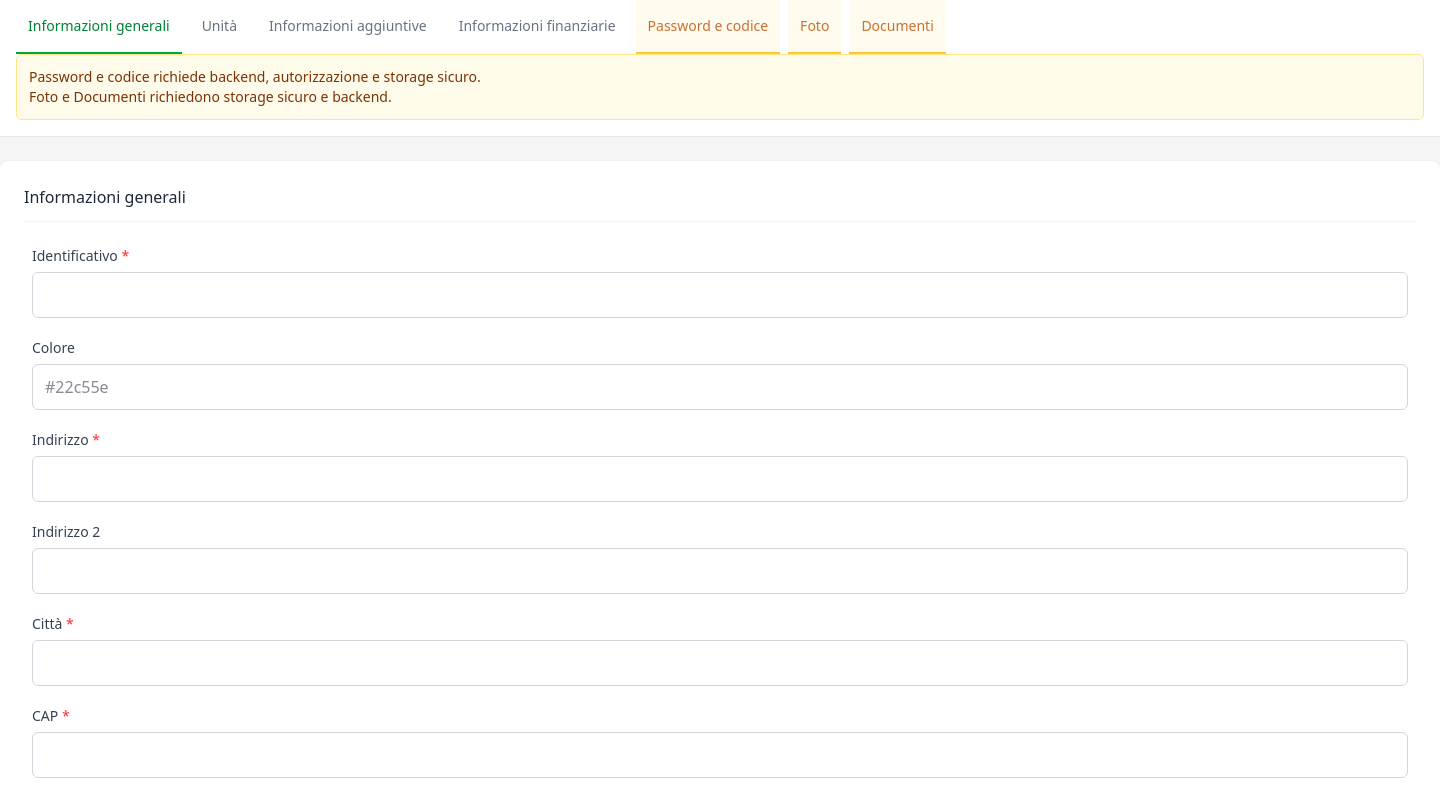
Test case: BuildingForm › mostra esattamente i quattro campi finanziari con tipi corretti
What coordinates should you click on to do the following:
click the tab "Informazioni finanziarie"
I would click on:
 (537, 27)
Its box is [447, 0, 628, 54].
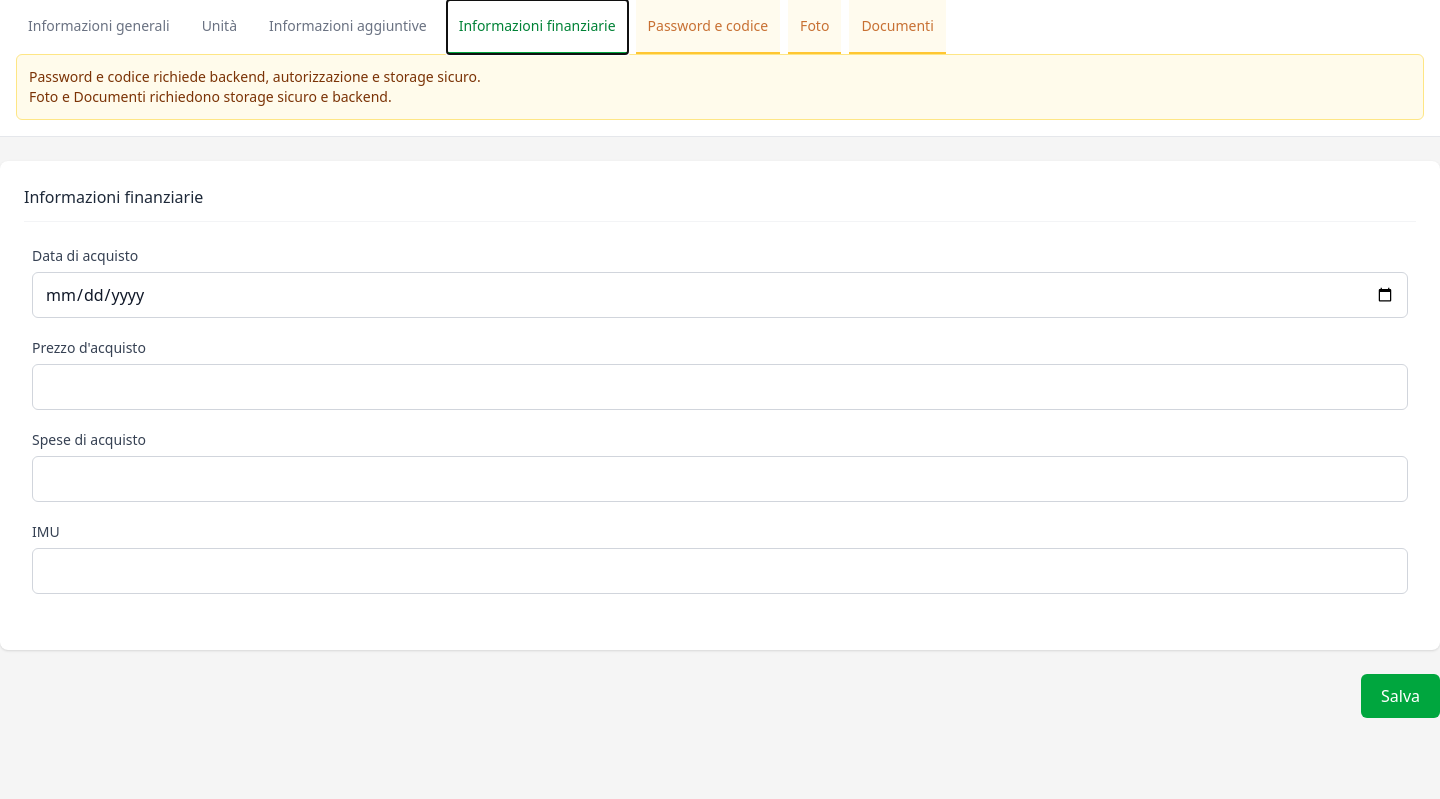
Expected: no fields are shown
Expected: the number of number fields is 3, [32, 364, 1408, 410]; [32, 456, 1408, 502]; [32, 548, 1408, 594]
